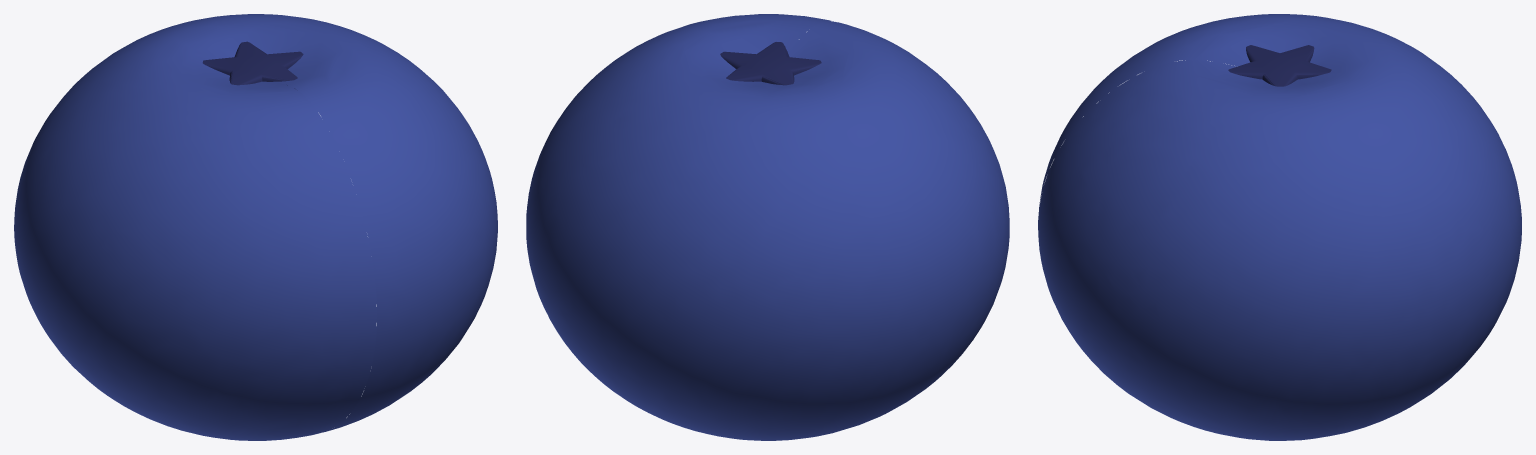
Rendered from blueberry.glb.
3 views of the same model, side by side, from view 1: azimuth 30°, elevation 25°; view 2: azimuth 150°, elevation 25°; view 3: azimuth 270°, elevation 25° (orthographic).
Visible parts, largest first — view 1: blueberry; view 2: blueberry; view 3: blueberry.
Part boxes in pixels (x1=…): blueberry: x1=14, y1=14, x2=497, y2=440; blueberry: x1=526, y1=14, x2=1009, y2=440; blueberry: x1=1038, y1=14, x2=1521, y2=440.
Bounding box in the file's own units: 2 × 1.62 × 2.
